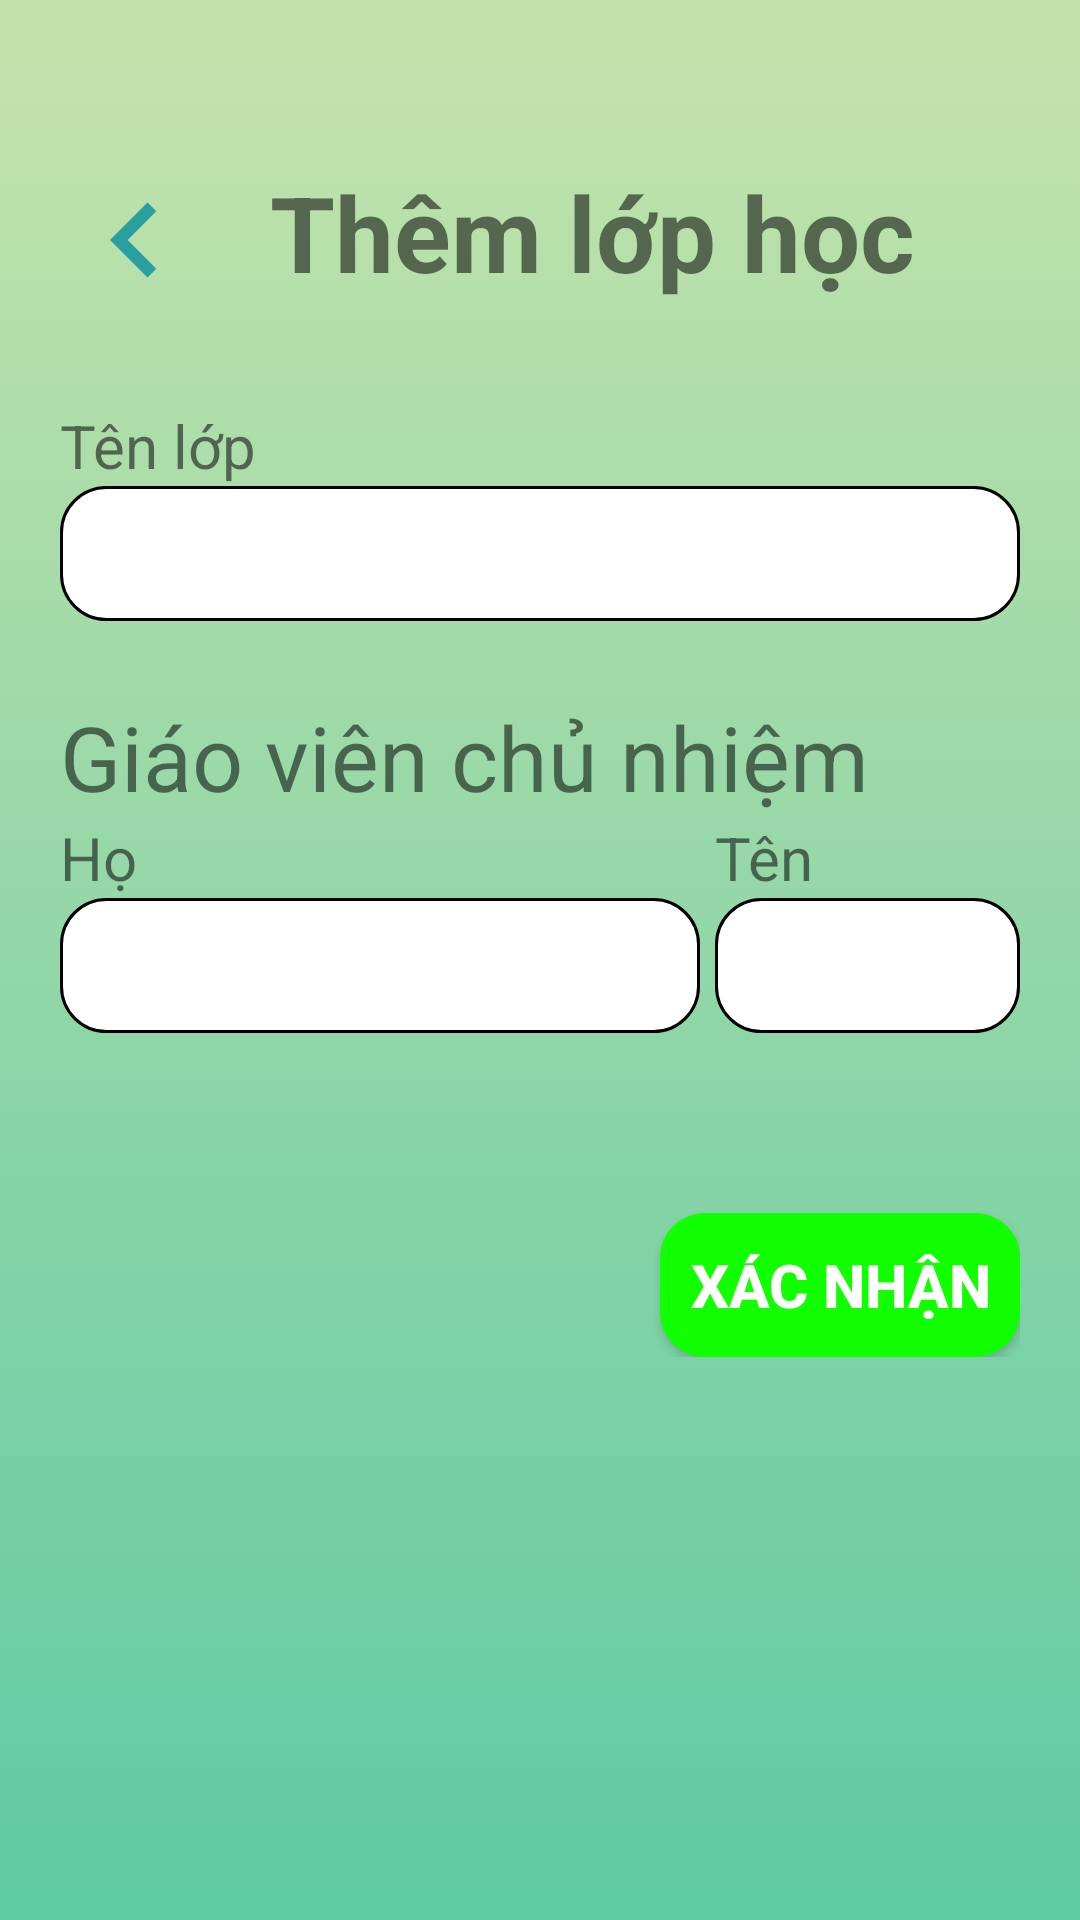

Where icons sit on this 1080px x 1920px app screen, as bbox(x1, y1, x2, y2):
turnback: bbox(110, 202, 156, 278)
